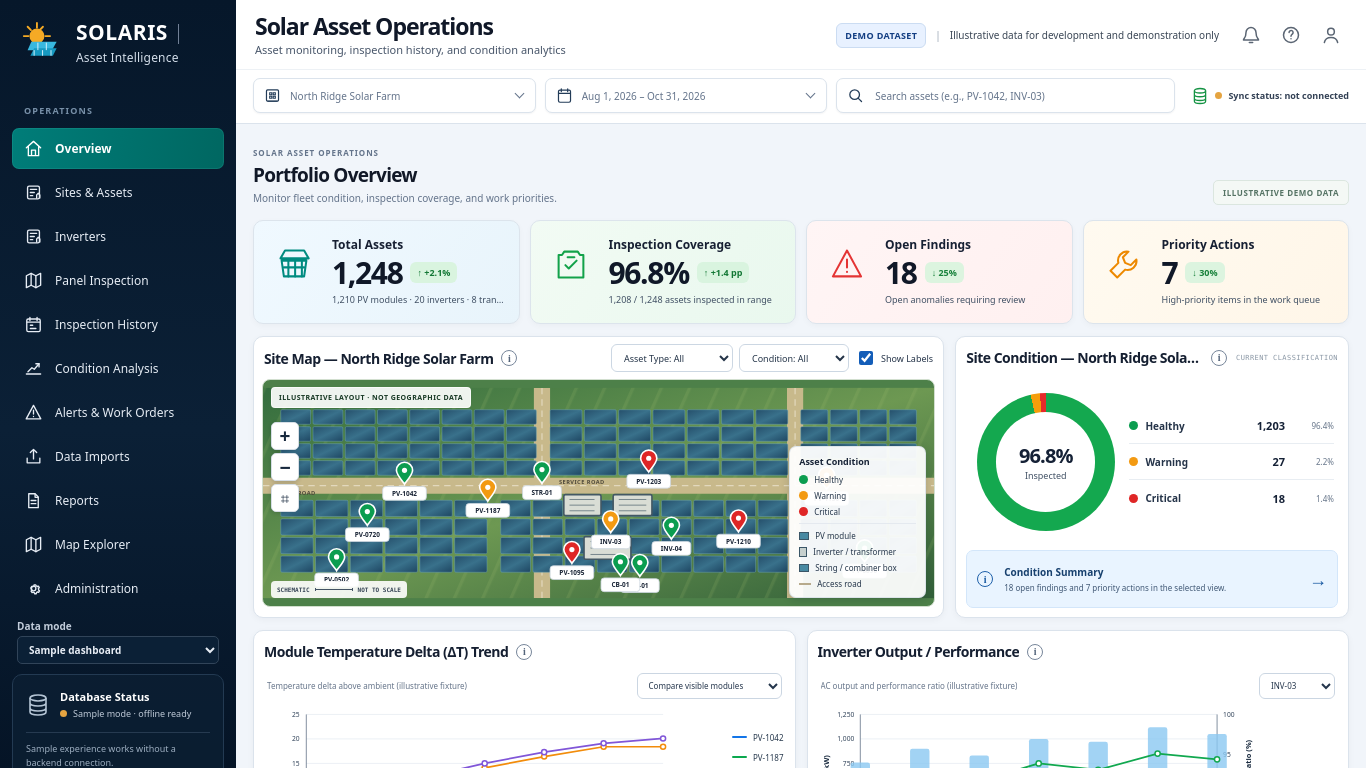
it: SOLARIS overview dashboard › loads live workspaces from the API without showing sample KPIs
Select "Live workspace" in the dropdown labelled "Data mode" at (118,650), box left=17, top=636, right=219, bottom=664
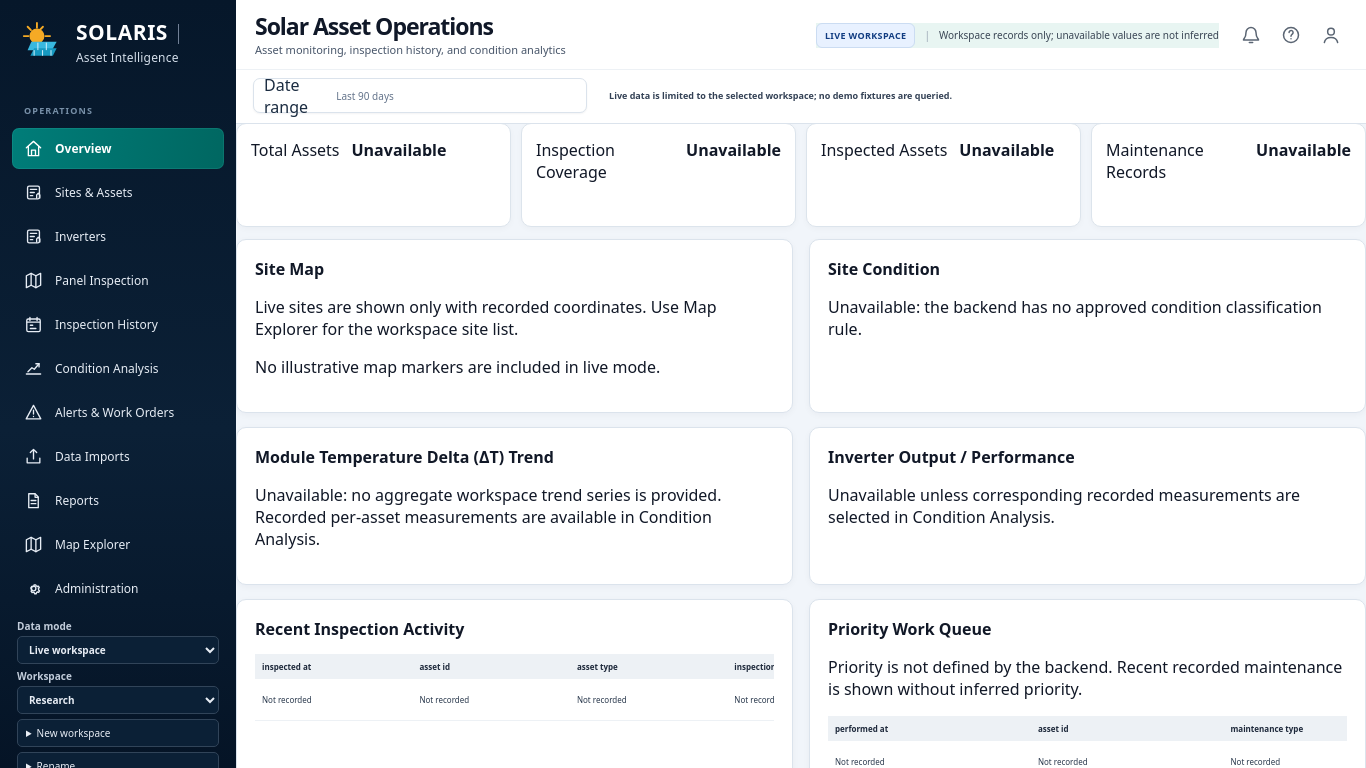
Expected: the dropdown named "Live workspace" is shown, left=17, top=686, right=219, bottom=714
Expected: the text "Workspace records only; unavailable values are not inferred" is shown, left=939, top=28, right=1219, bottom=42
